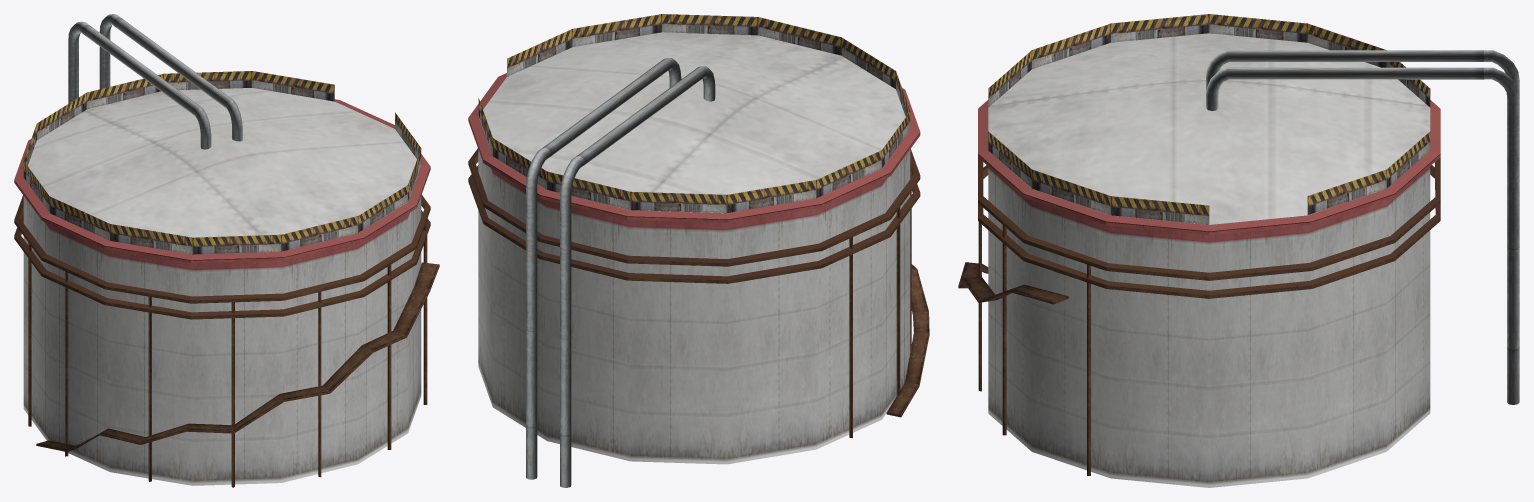
Rendered from Industrial Y012.fbx.
3 views of the same model, side by side, from view 1: azimuth 30°, elevation 25°; view 2: azimuth 150°, elevation 25°; view 3: azimuth 270°, elevation 25° (orthographic). The views are drawn at different scales.
Parts seen in each view (by area): view 1: Industrial Y012; view 2: Industrial Y012; view 3: Industrial Y012.
Part boxes in pixels (x1=…): Industrial Y012: x1=14, y1=14, x2=439, y2=487; Industrial Y012: x1=468, y1=14, x2=929, y2=487; Industrial Y012: x1=958, y1=14, x2=1519, y2=487.
Size of the model in its own units: 15.91 by 12.12 by 18.43.
1 material, 1 textured.
